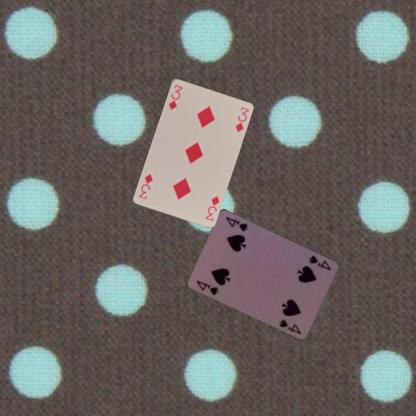3d: (202, 193, 221, 222), (166, 82, 184, 111)
4s: (306, 252, 333, 272), (194, 278, 221, 298)
